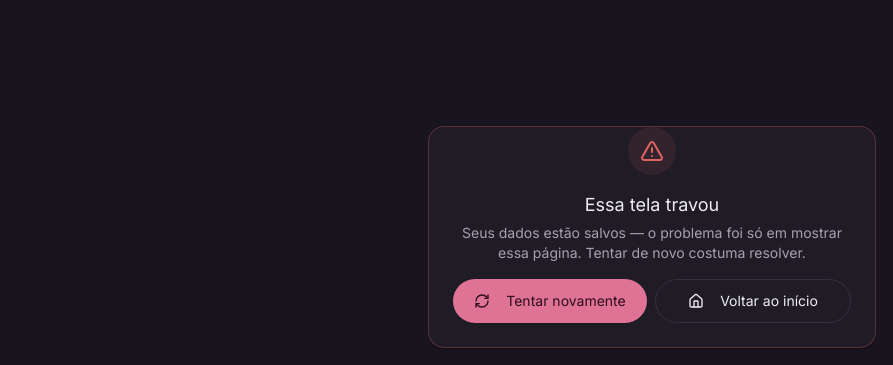
it: LimiteDeErro › "tentar novamente" volta a renderizar a tela quando o erro passou
The image size is (893, 365).
Expected: the text "Essa tela travou" is shown, [585,194,719,215]
Click the button "Tentar novamente": x=550, y=301 [453,279,647,323]
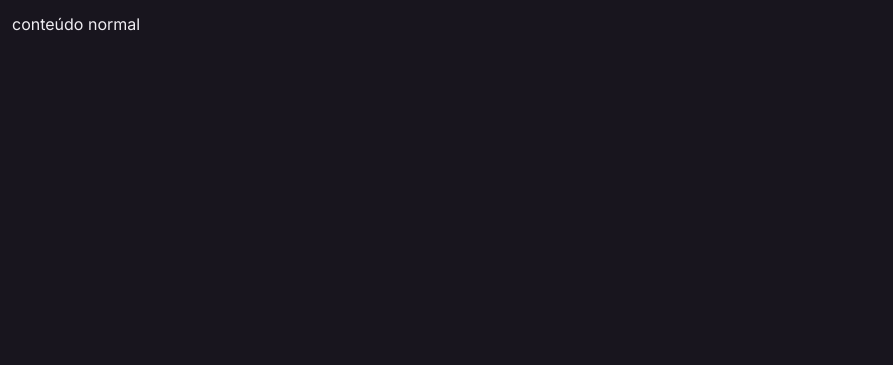
Result: the text "conteúdo normal" is shown at [12,14,140,34]
